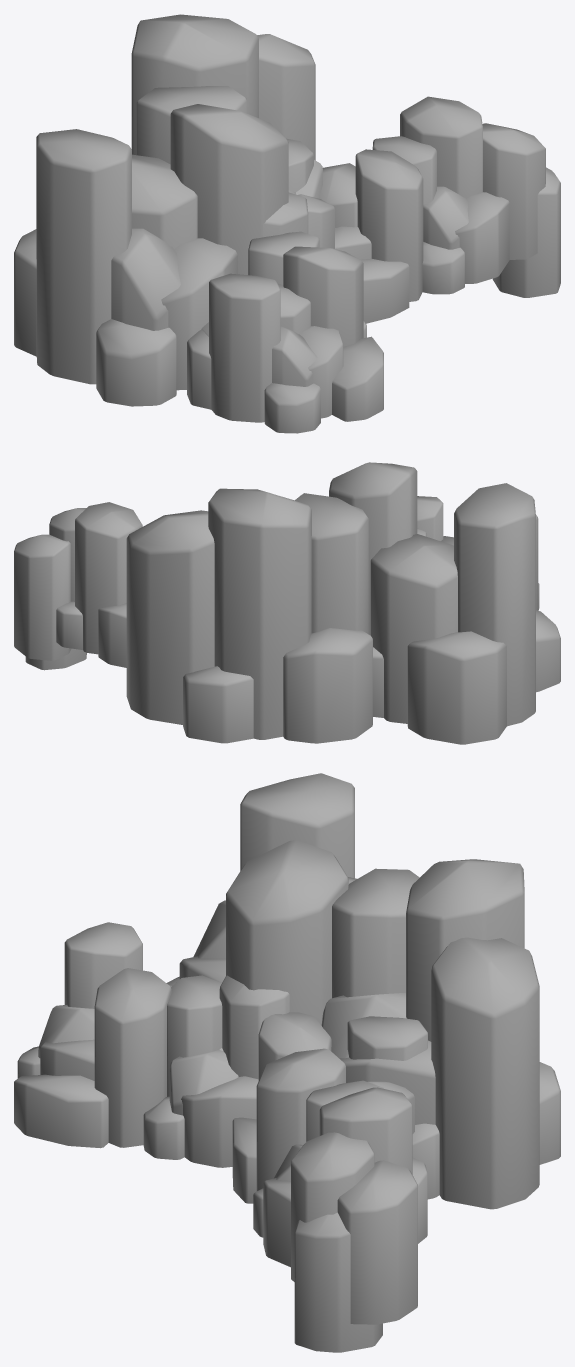
The model's file is Mount_v2.fbx.
The picture shows the model from 3 angles, top to bottom: view 1: azimuth 30°, elevation 25°; view 2: azimuth 150°, elevation 25°; view 3: azimuth 270°, elevation 25°; orthographic projection. The views are drawn at different scales.
Parts seen in each view (by area): view 1: Mount.002; view 2: Mount.002; view 3: Mount.002.
Part boxes in pixels (bbox=[...]): Mount.002: bbox=[14, 14, 560, 433]; Mount.002: bbox=[14, 462, 560, 744]; Mount.002: bbox=[14, 773, 560, 1352].
Bounding box in the file's own units: 35.06 × 18.3 × 28.37.
